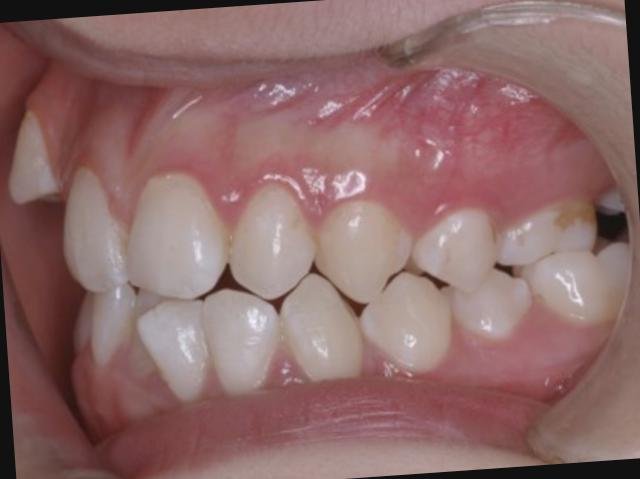canine class III 1/4: (270, 185, 460, 404)
molar class II full class: (488, 194, 640, 339)
